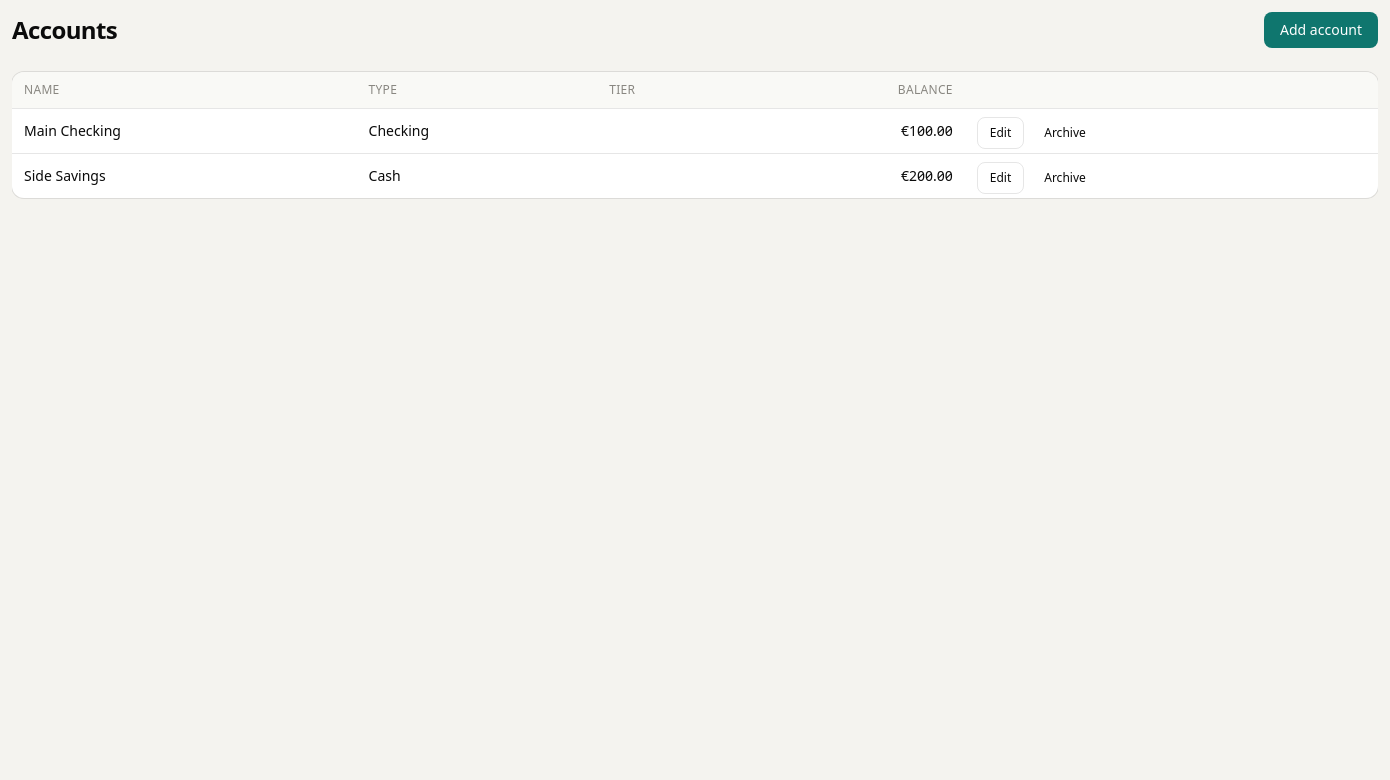
AccountsPage › groups the type choice by tier, with Other under Everyday
This screenshot has width=1390, height=780.
Click the button "Add account" at {"x": 1321, "y": 30}, box [1264, 12, 1378, 48]
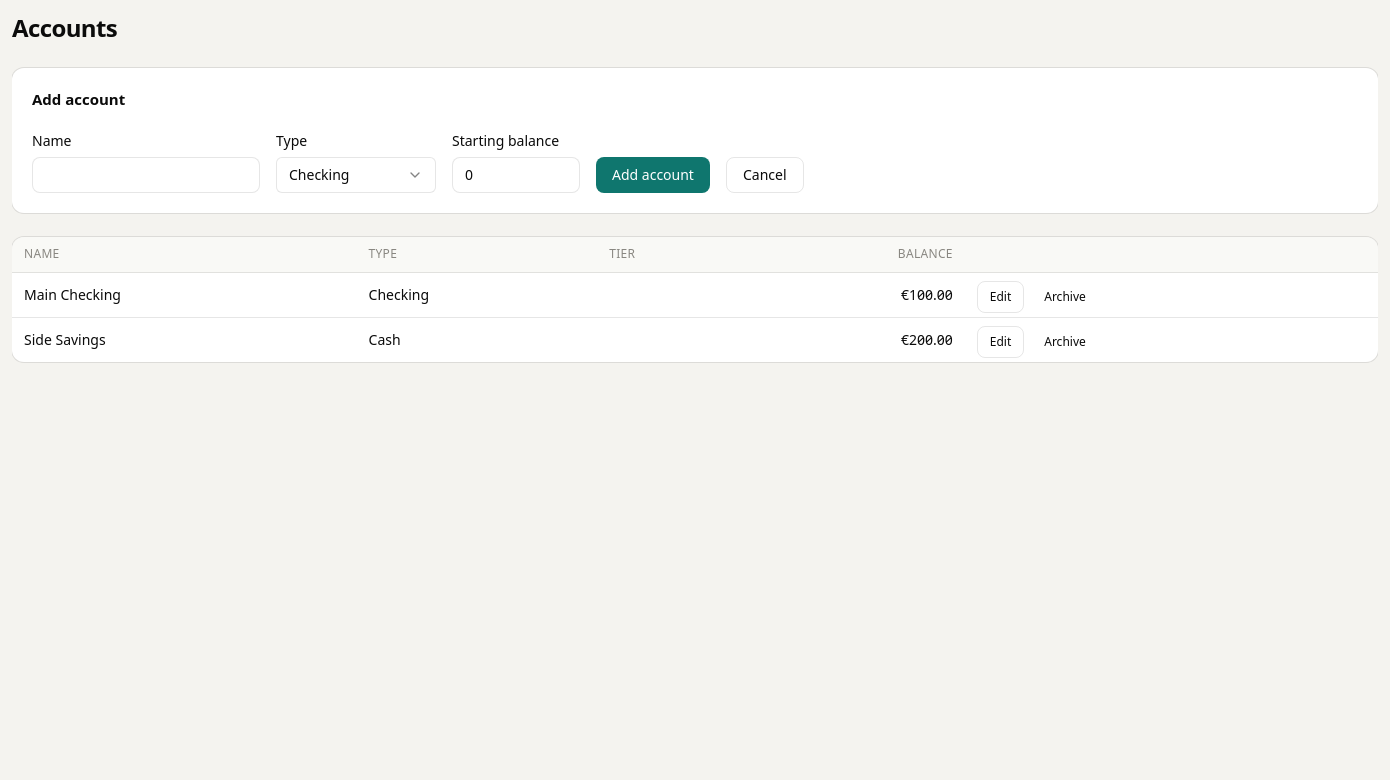
Click the dropdown named "Account type" at {"x": 356, "y": 174}, box [276, 156, 436, 192]
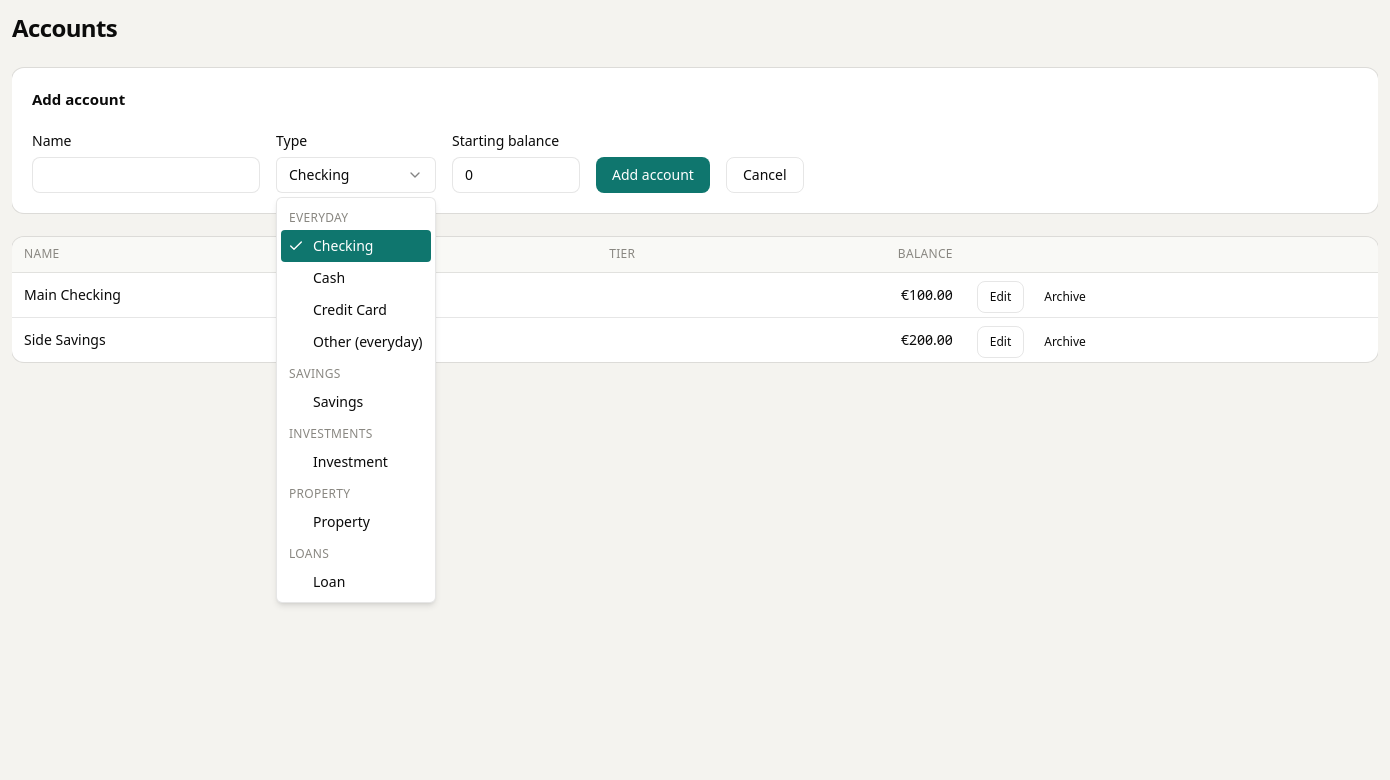
Result: the text "Everyday" is shown at [289, 209, 348, 226]
